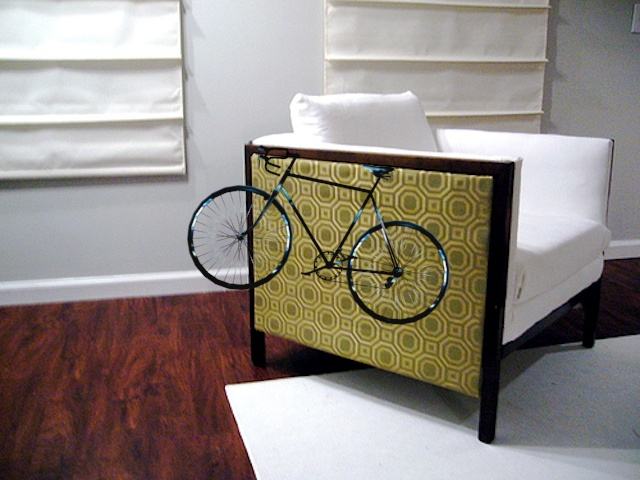bike: (177, 145, 464, 328)
